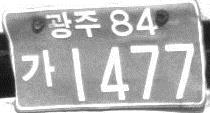1: (68, 46, 87, 103)
4: (98, 45, 130, 101), (134, 7, 159, 35)
7: (162, 42, 196, 100), (130, 42, 160, 100)
8: (109, 7, 133, 37)
가: (18, 47, 55, 90)
광주_O: (44, 9, 101, 40)
